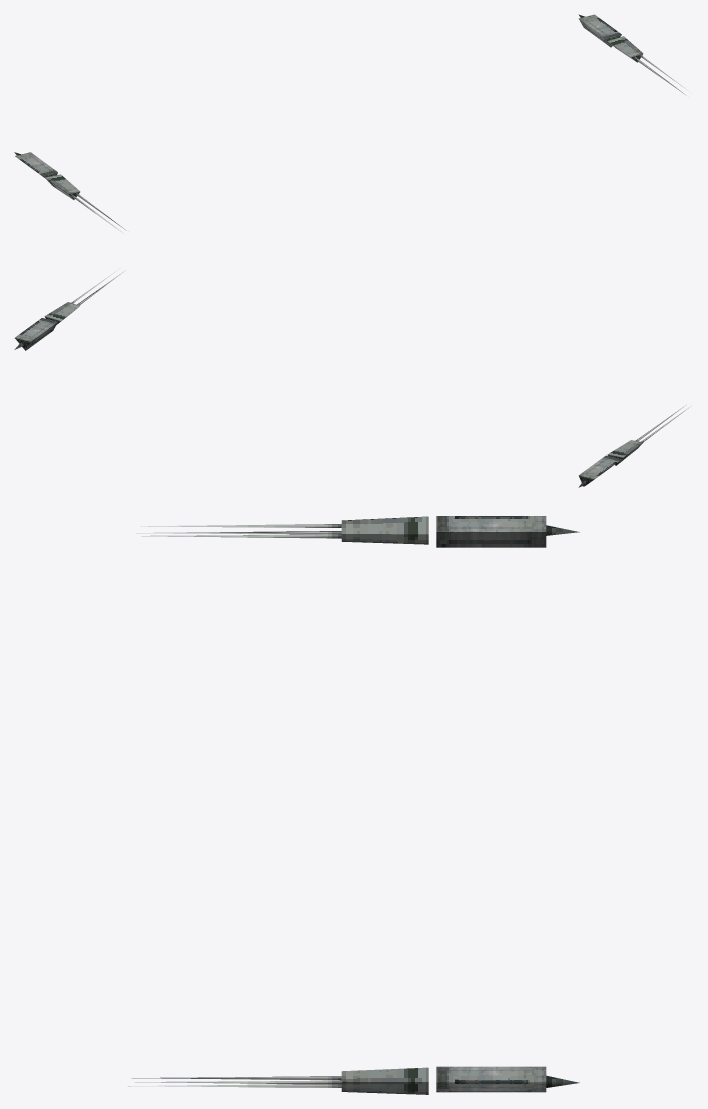
Rendered from hutt_fighter_heavy_weapon2_s04_l3.fbx.
The picture shows the model from 3 angles, top to bottom: view 1: azimuth 30°, elevation 25°; view 2: azimuth 150°, elevation 25°; view 3: azimuth 270°, elevation 25°; orthographic projection. The views are drawn at different scales.
Parts seen in each view (by area): view 1: mesh_node; view 2: mesh_node; view 3: mesh_node.
Boxes of the visible parts, x1,y1,x2,y2 form: mesh_node: (14,14,689,232); mesh_node: (14,268,689,487); mesh_node: (128,516,579,1094).
Bounding box in the file's own units: 26.79 × 0.4609 × 9.05.
Materials: 1 (1 with a texture image).
